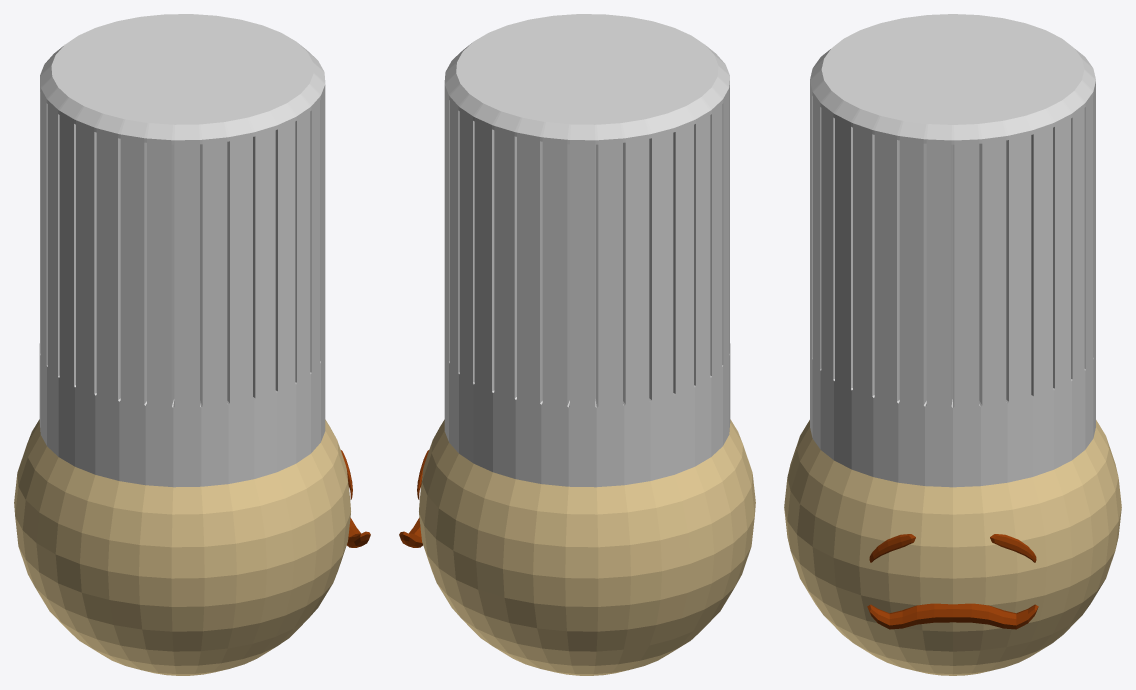
The model's file is Player.fbx.
3 views of the same model, side by side, from view 1: azimuth 30°, elevation 25°; view 2: azimuth 150°, elevation 25°; view 3: azimuth 270°, elevation 25° (orthographic).
Visible parts, largest first — view 1: Hat, Head; view 2: Hat, Head; view 3: Hat, Head, Stache, Brows.
Part boxes in pixels (bbox=[...]): Hat: bbox=[39, 14, 325, 487]; Head: bbox=[14, 419, 350, 675]; Hat: bbox=[444, 14, 730, 487]; Head: bbox=[419, 419, 755, 675]; Hat: bbox=[810, 14, 1095, 487]; Head: bbox=[784, 420, 1121, 675]; Stache: bbox=[867, 603, 1038, 629]; Brows: bbox=[869, 534, 1036, 562].
Bounding box in the file's own units: 204 × 386 × 200.
